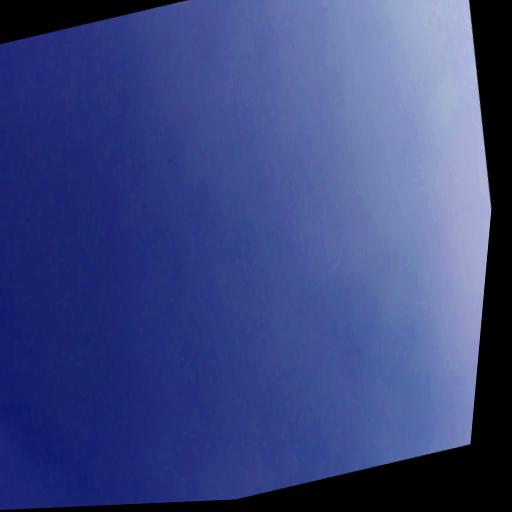drones: (166, 154, 175, 164)
